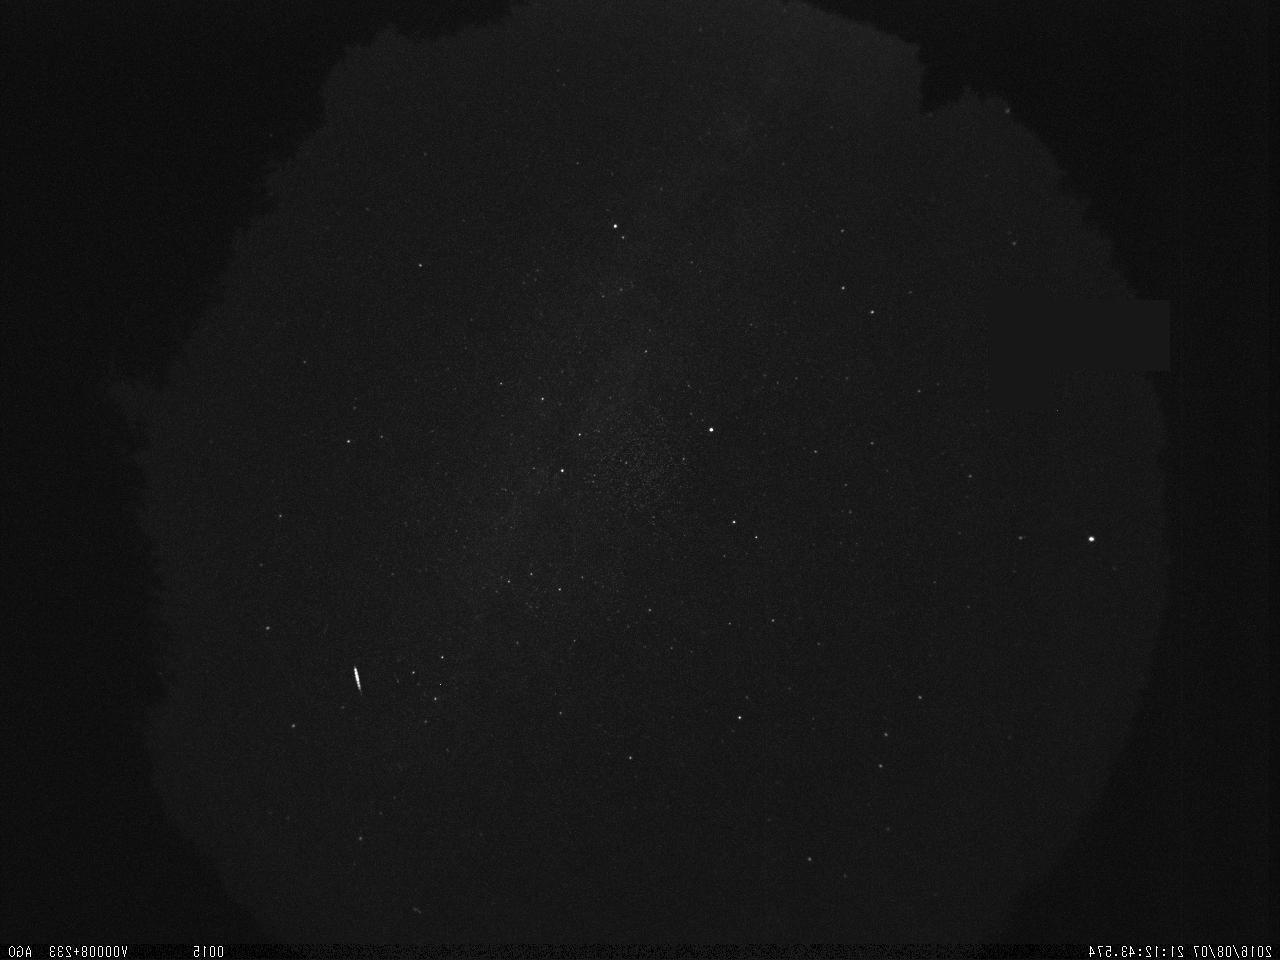meteor: (337, 642, 381, 713)
